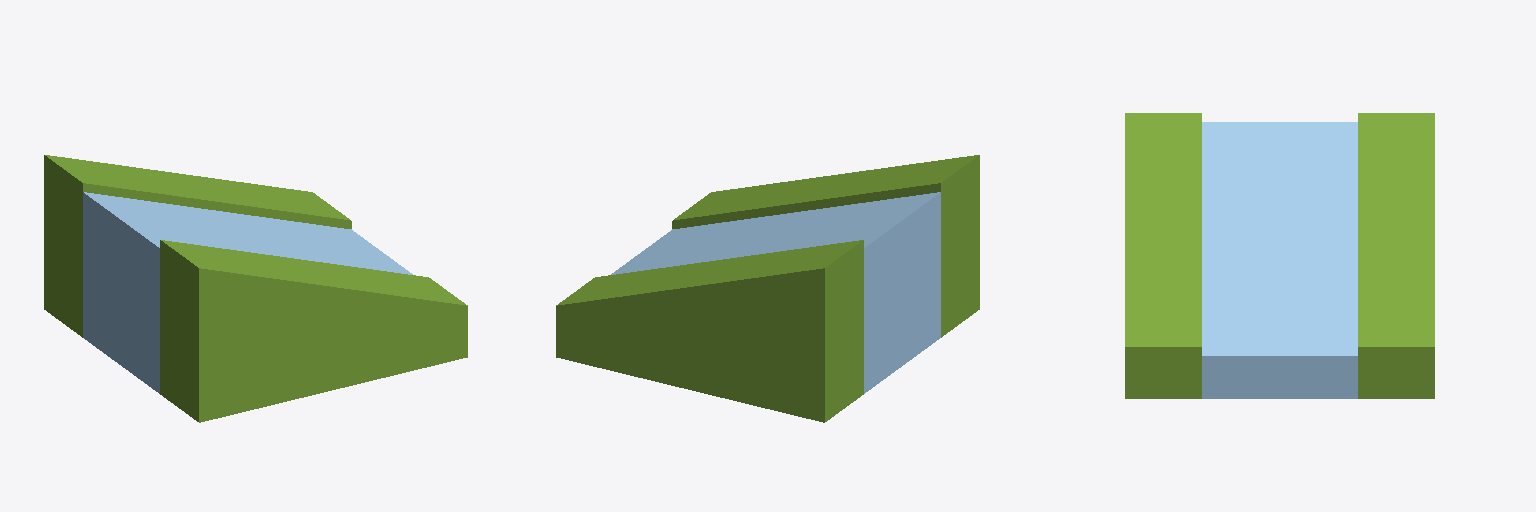
3 renders of one model, left to right at view 1: azimuth 30°, elevation 25°; view 2: azimuth 150°, elevation 25°; view 3: azimuth 270°, elevation 25°, orthographic.
Parts seen in each view (by area): view 1: roadTile_189.001; view 2: roadTile_189.001; view 3: roadTile_189.001.
Part boxes in pixels (x1,y1,x2,y2): roadTile_189.001: (44, 155, 467, 422); roadTile_189.001: (556, 155, 979, 422); roadTile_189.001: (1125, 113, 1434, 398).
Bounding box in the file's own units: 3 × 1.65 × 3.